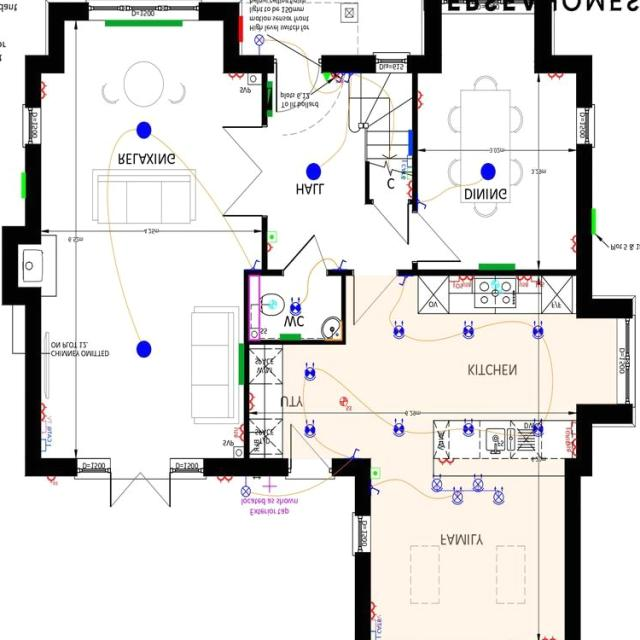BT Entry Point: (321, 72, 332, 88)
Cat 6 Data Socket: (393, 157, 418, 170), (41, 440, 59, 456), (369, 632, 398, 640)
Ceiling Mounted Continuous Extract Fan With Boost Mode Activated By Light Switch: (267, 297, 279, 315)
Ceiling Mounted Continuous Extract Fan With Local Boost Switch: (336, 394, 356, 416)
Co-Ax TV Socket: (371, 619, 390, 634), (42, 421, 57, 436)
Consumer Unit: (266, 87, 274, 114)
Double Socket: (213, 476, 234, 490), (544, 72, 568, 84), (370, 602, 385, 620), (418, 87, 427, 116), (401, 180, 413, 201), (40, 81, 50, 106), (570, 233, 580, 256), (250, 391, 259, 413), (228, 74, 246, 84), (41, 400, 49, 422), (438, 459, 455, 469), (534, 635, 563, 640)
Electric Meter Box: (238, 12, 247, 47)
External Wall Light: (249, 33, 269, 59), (236, 477, 256, 501)
Gas Meter Box: (592, 204, 599, 241), (20, 172, 28, 200)
Grid Switch: (565, 421, 579, 440)
Hob Switch: (530, 276, 546, 292)
Light Switch: (370, 481, 386, 500), (347, 445, 363, 460), (335, 256, 350, 272), (246, 259, 262, 272), (419, 197, 430, 215), (398, 276, 413, 288), (346, 74, 359, 87), (338, 74, 346, 90)
Low Energy Downlighter: (385, 413, 412, 442), (389, 312, 411, 346), (458, 415, 482, 443), (302, 417, 324, 447), (458, 315, 480, 345), (284, 294, 306, 324), (300, 358, 320, 388), (530, 319, 549, 347), (530, 415, 548, 441)
Low Energy Pendant Light: (302, 157, 329, 189), (133, 336, 161, 364), (476, 162, 500, 184), (134, 120, 155, 145)
Outside Socket: (41, 475, 61, 490)
Outside Tap: (259, 476, 280, 496)
Oven Switch: (447, 276, 462, 292)
Programmable Room Thermostat: (267, 230, 282, 246), (371, 464, 384, 479)
Radiator: (100, 20, 188, 32), (232, 341, 248, 391), (266, 78, 276, 123), (276, 333, 307, 344)
Recirculating Extractor Fan: (486, 278, 508, 299)
Single Socket: (266, 243, 279, 258), (331, 74, 340, 86)
Telephone Socket: (396, 169, 415, 181)
Track Light: (428, 475, 508, 511)
USB Double Socket: (230, 422, 246, 446), (562, 440, 578, 460), (460, 276, 476, 291), (517, 275, 531, 288)
Underfloor Heating Manifold: (406, 128, 416, 160)
